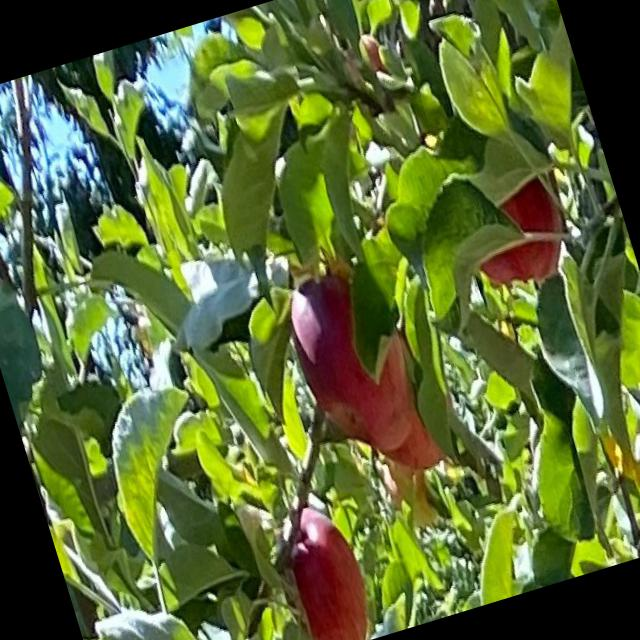Apples: (278, 258, 428, 456), (262, 495, 383, 639), (458, 162, 582, 292), (352, 328, 450, 477)
